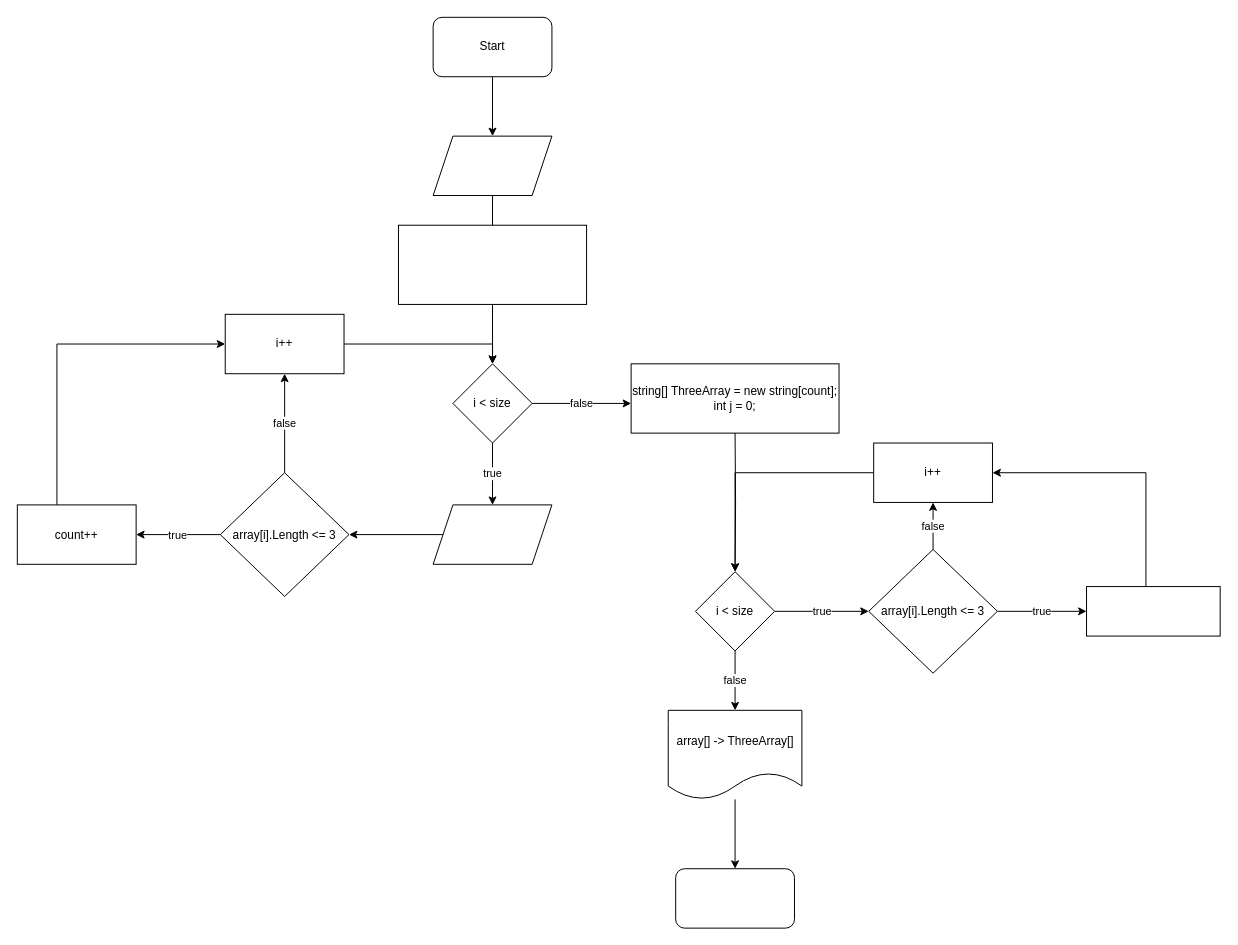
The diagram is 1238 pixels wide and 945 high, and some of its shapes have lost their labels. The box of each missing label's shape, as (x1, y1, x2, y2) in pixels:
array[i]: (432, 504, 552, 564)
Finish: (675, 868, 794, 928)
size: (432, 135, 552, 196)
string[] array = new string[size]; int i = 0; int count = 0;: (397, 224, 587, 304)
ThreeArray[j] = array[i]; j++;: (1086, 586, 1220, 636)
